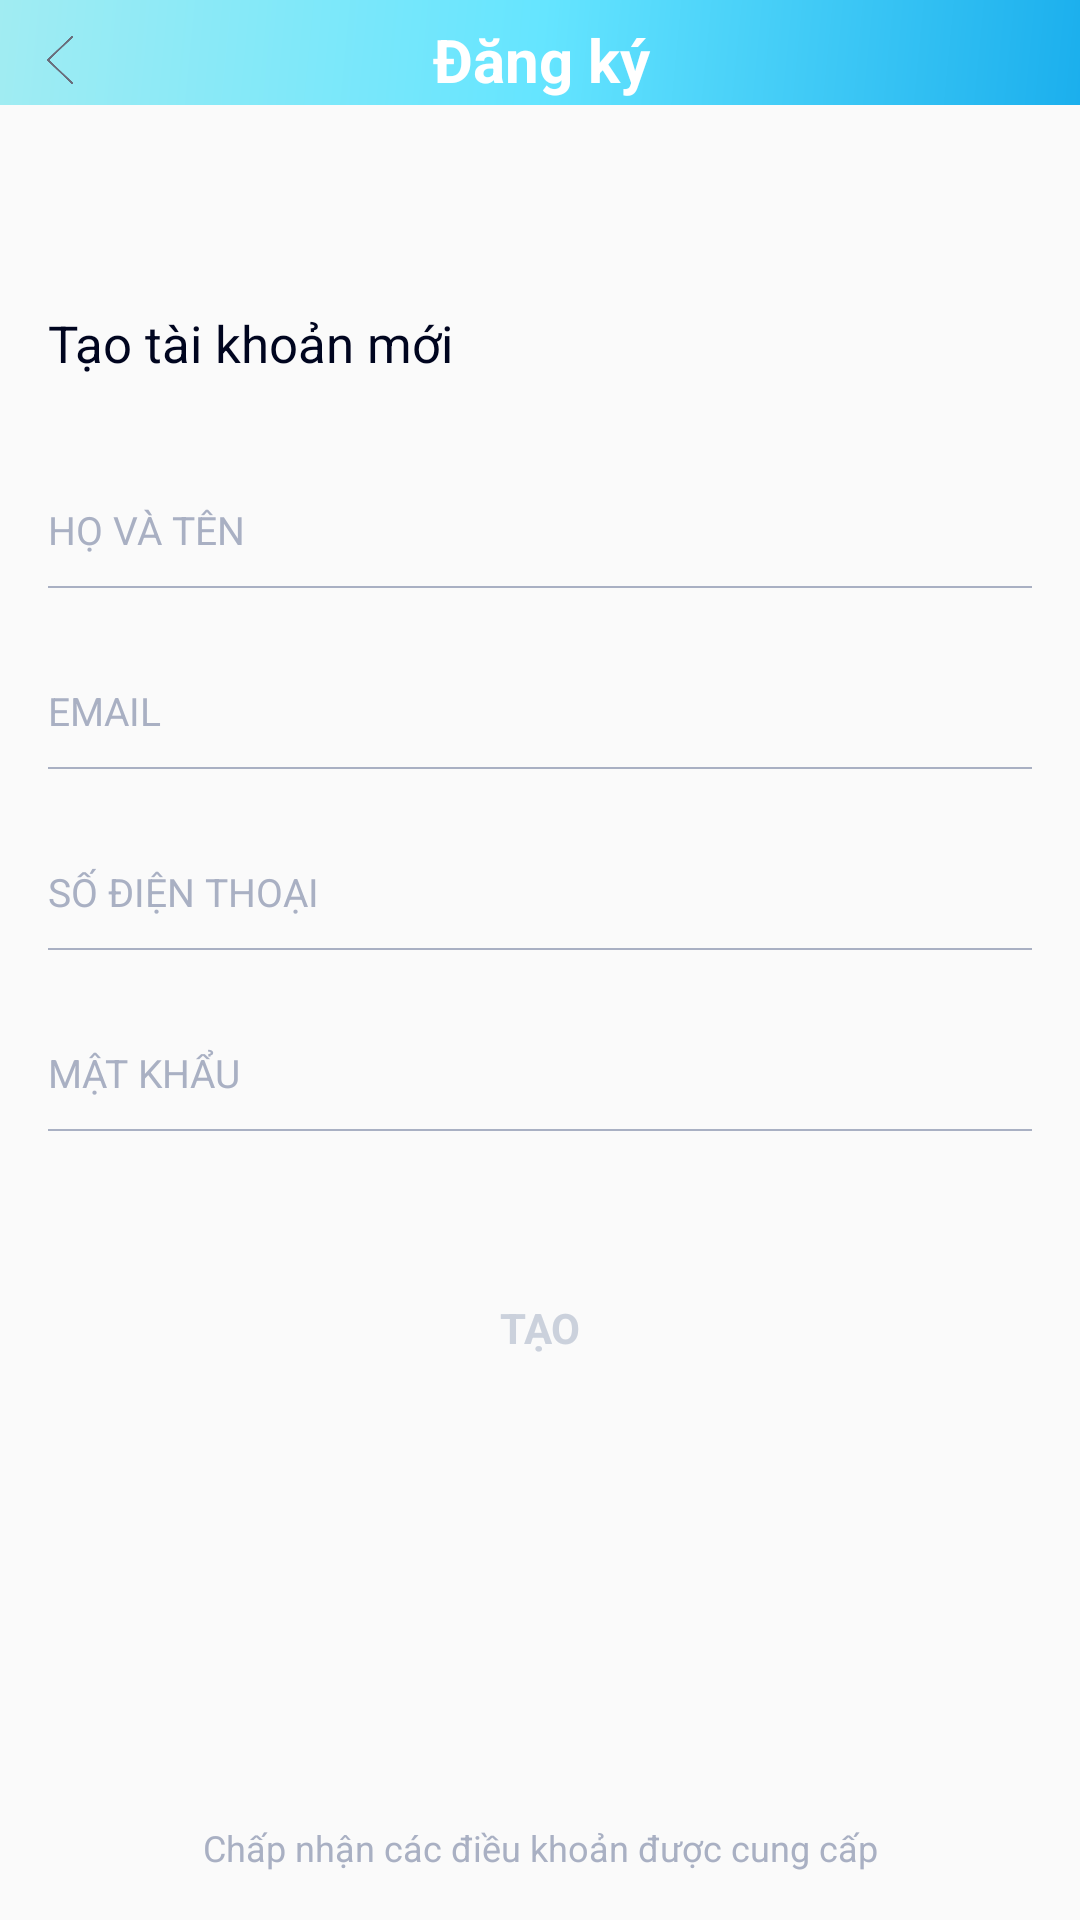

Where icons sit on this 1080px x 1920px app screen, as [x1,y1,x2,y2]:
quaylai: [47,36,73,84]
